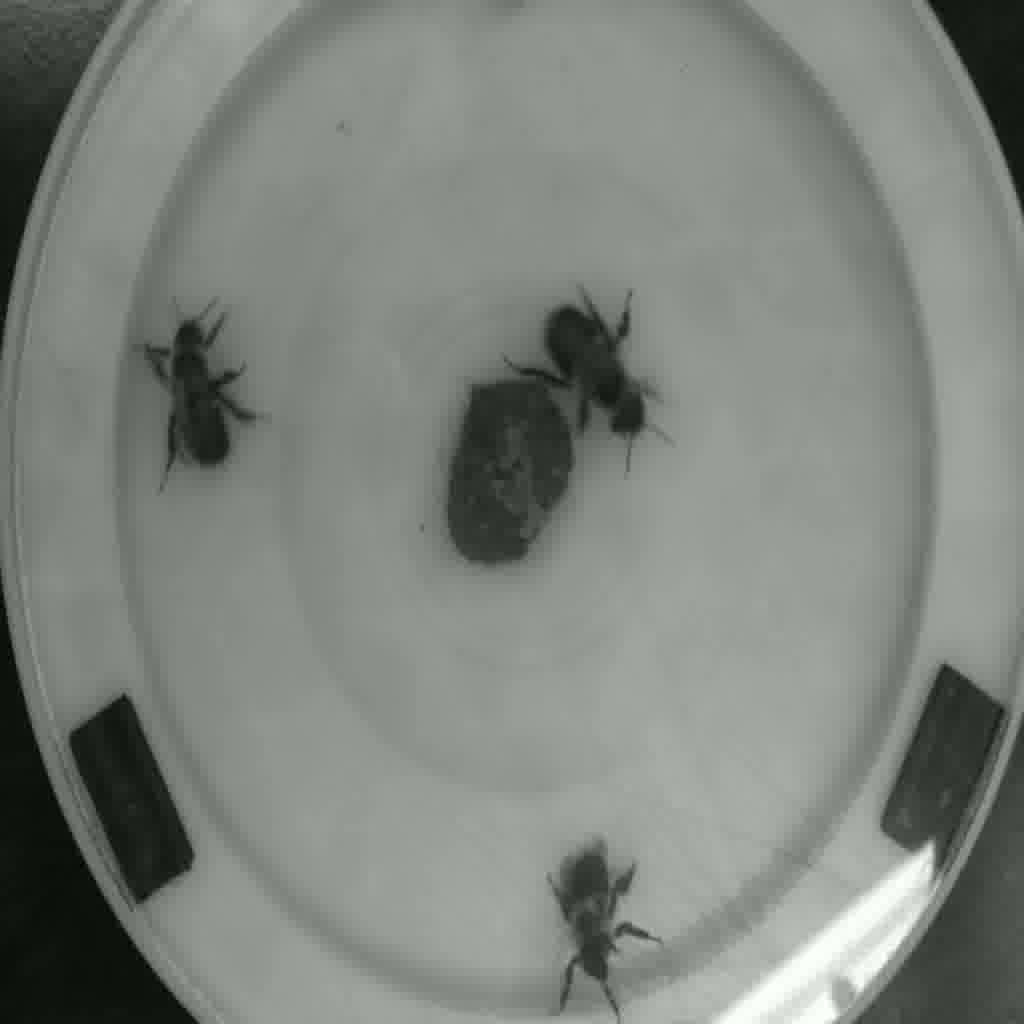bee: (135, 293, 279, 488), (511, 301, 673, 463), (546, 850, 658, 1003)
